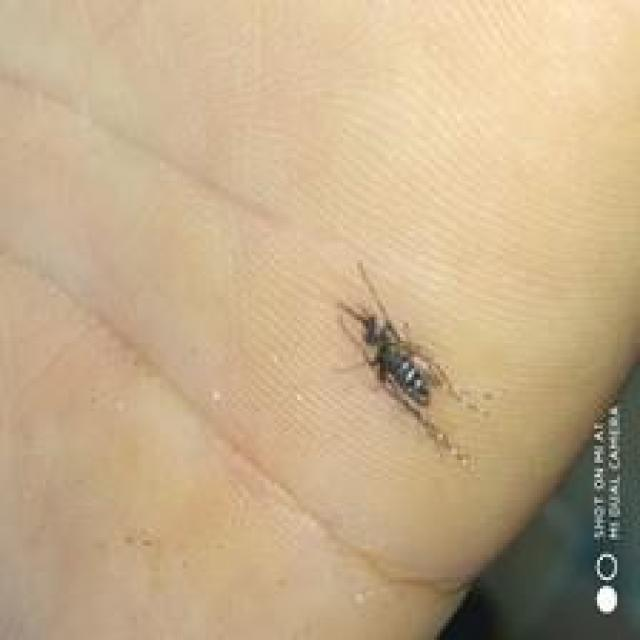Aedes albopictus: (334, 258, 492, 473)
